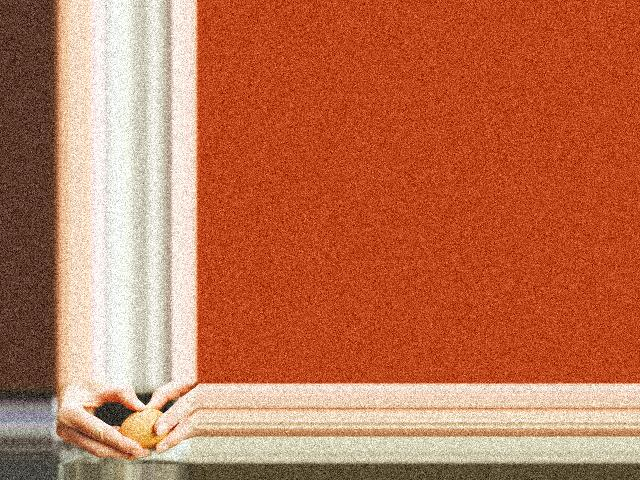egg: (120, 408, 169, 449)
